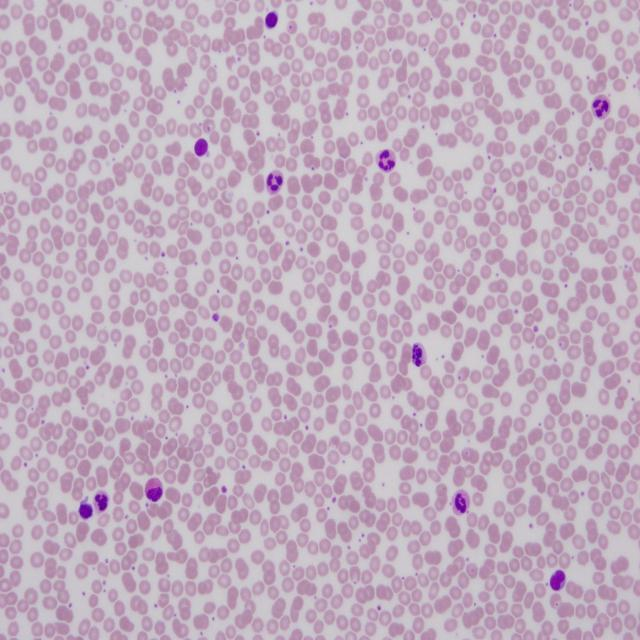cell: (451, 489, 470, 515), (376, 150, 396, 172), (592, 94, 610, 118), (266, 171, 284, 194), (94, 491, 109, 512)
